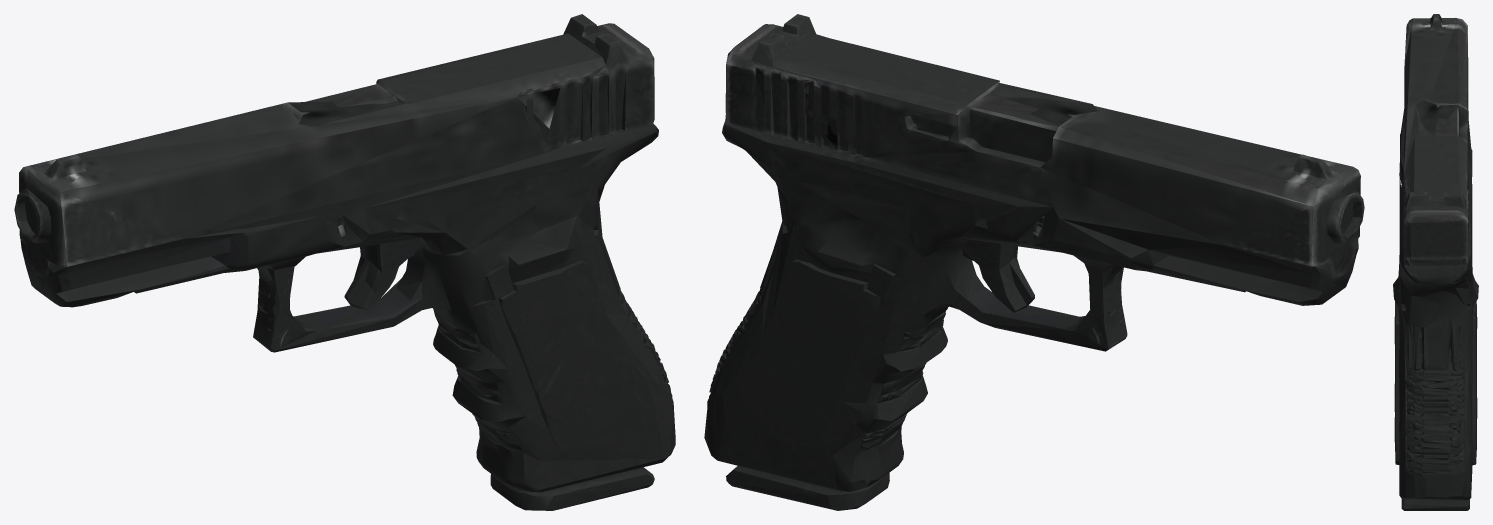
File: district-pistol.glb
3 renders of one model, left to right at view 1: azimuth 30°, elevation 25°; view 2: azimuth 150°, elevation 25°; view 3: azimuth 270°, elevation 25°, orthographic. The views are drawn at different scales.
Visible parts, largest first — view 1: output_unwrapped; view 2: output_unwrapped; view 3: output_unwrapped.
Part boxes in pixels (x1,y1,x2,y2): output_unwrapped: (14, 14, 675, 510); output_unwrapped: (704, 14, 1364, 510); output_unwrapped: (1393, 14, 1478, 510).
Bounding box in the file's own units: 1.9 × 1.28 × 0.3233.
Materials: 1 (1 with a texture image).
